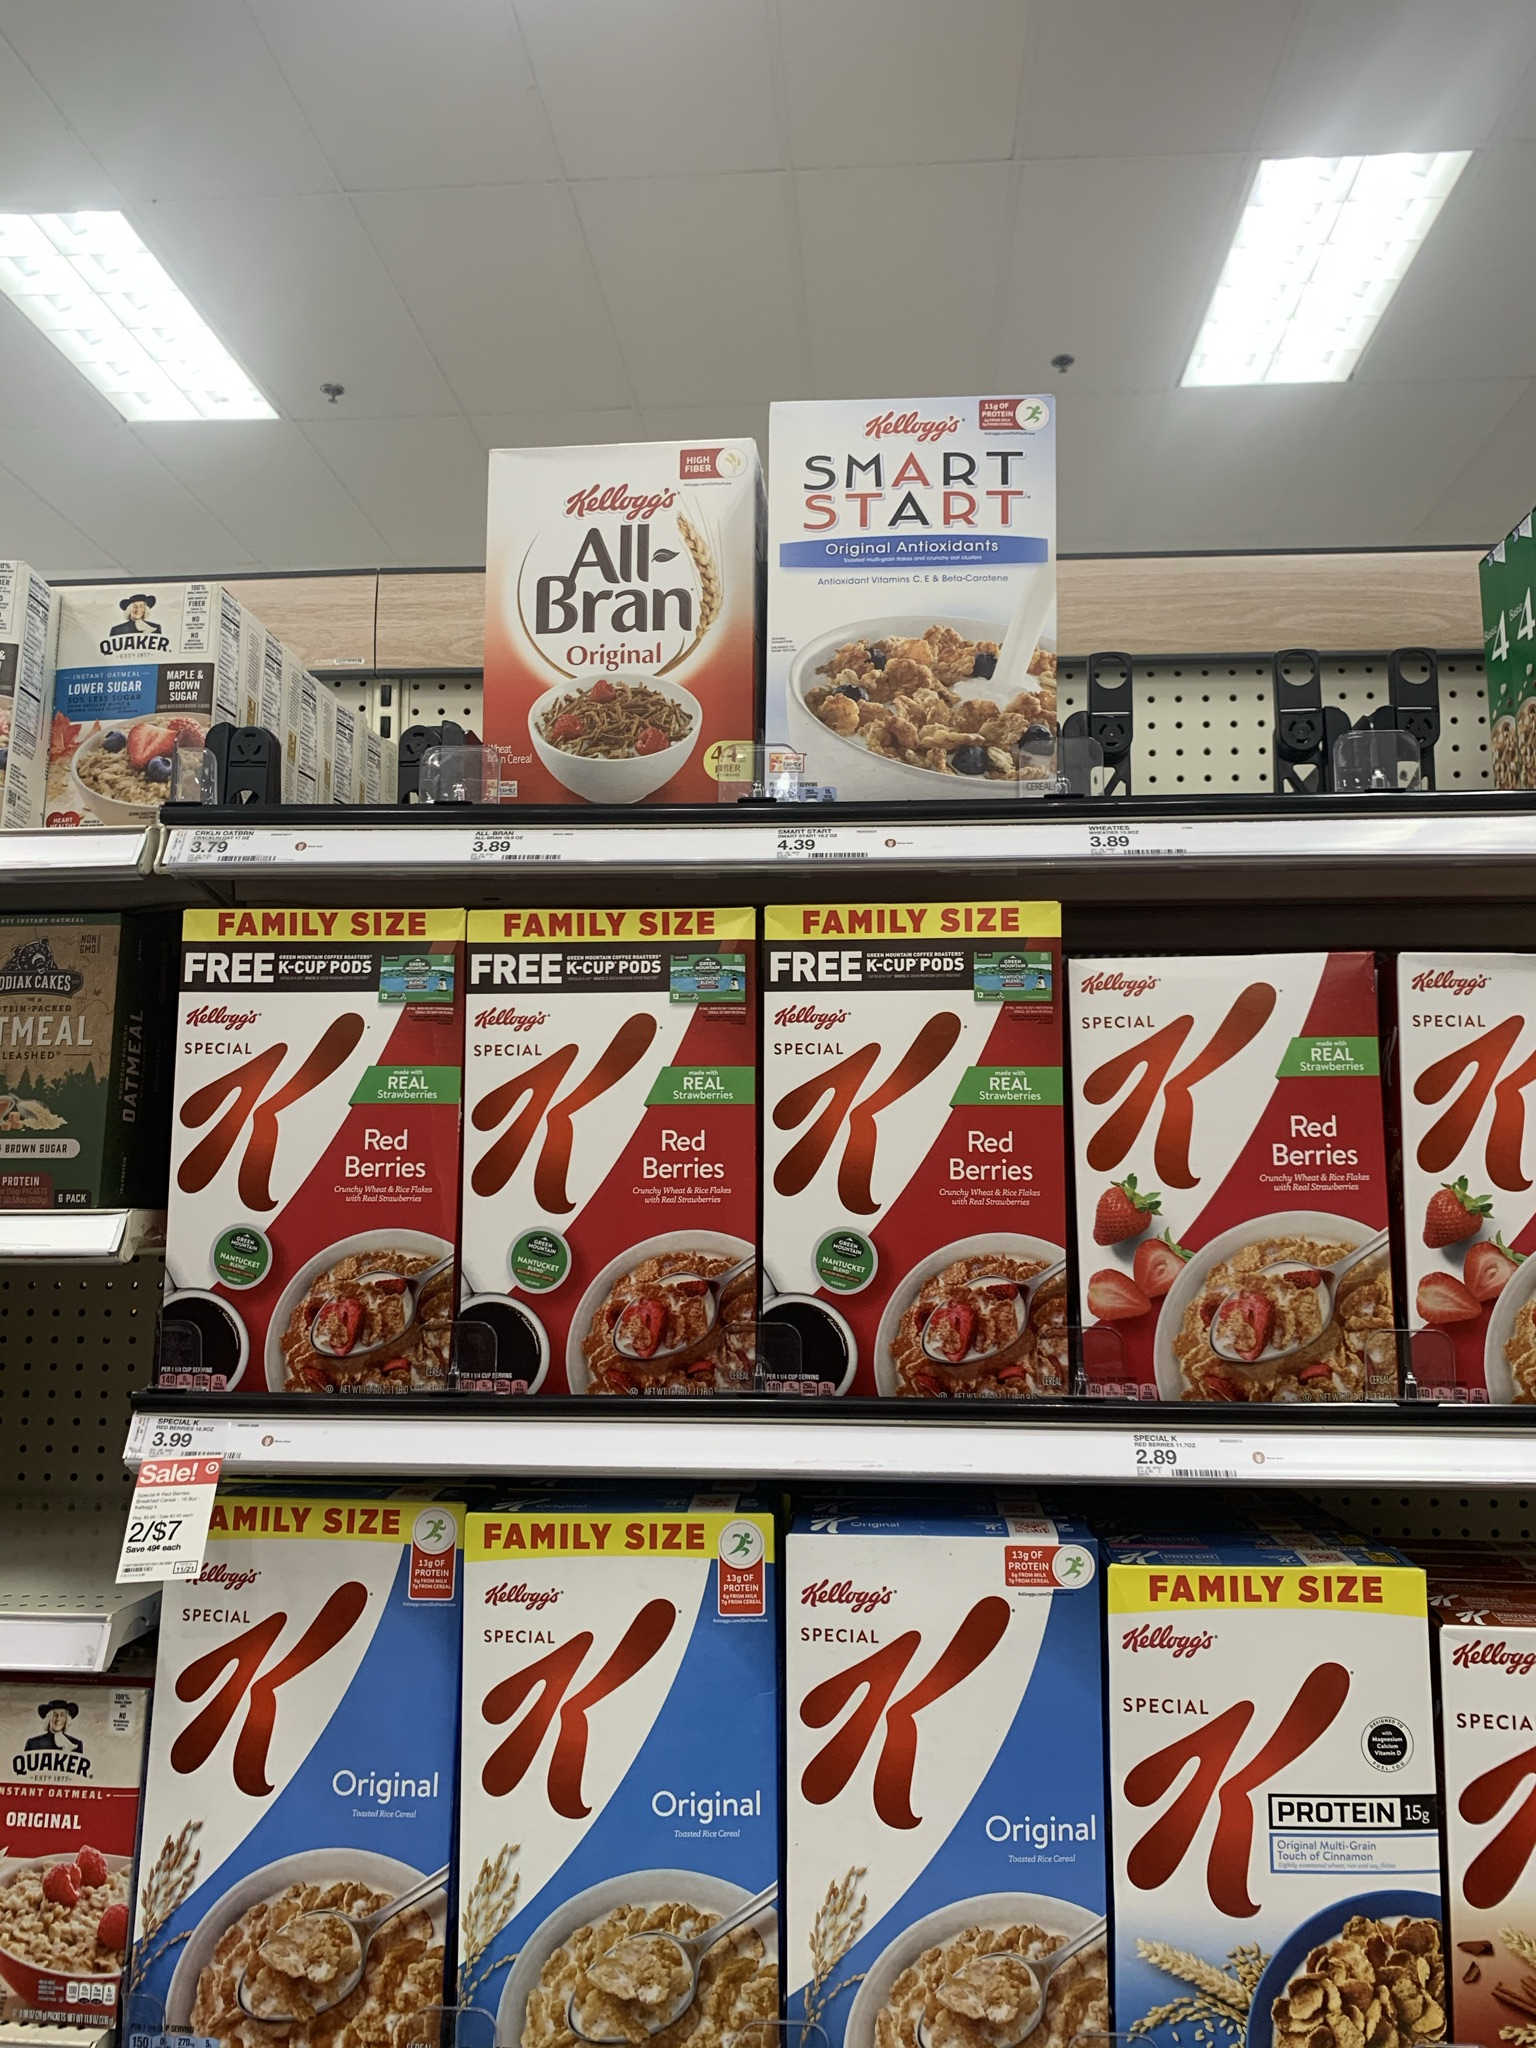Cereal: (142, 1487, 457, 2038), (461, 1503, 774, 2045), (786, 1532, 1112, 2046), (1112, 1563, 1446, 2048), (1066, 955, 1397, 1413), (762, 905, 1065, 1403), (169, 897, 461, 1405), (466, 905, 760, 1388), (763, 397, 1060, 797), (482, 439, 757, 798)
